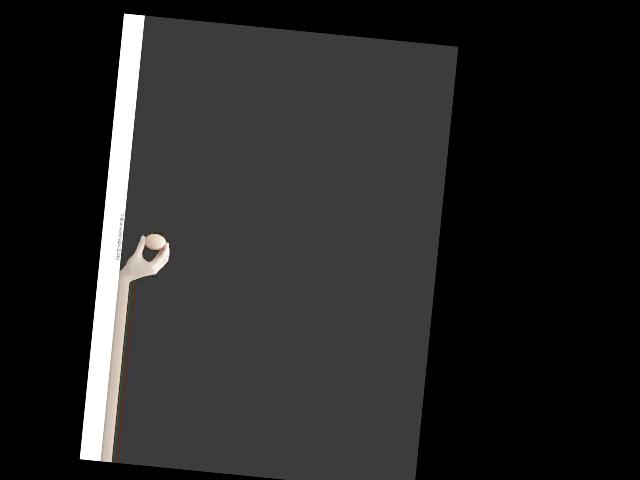egg: (144, 232, 167, 250)
